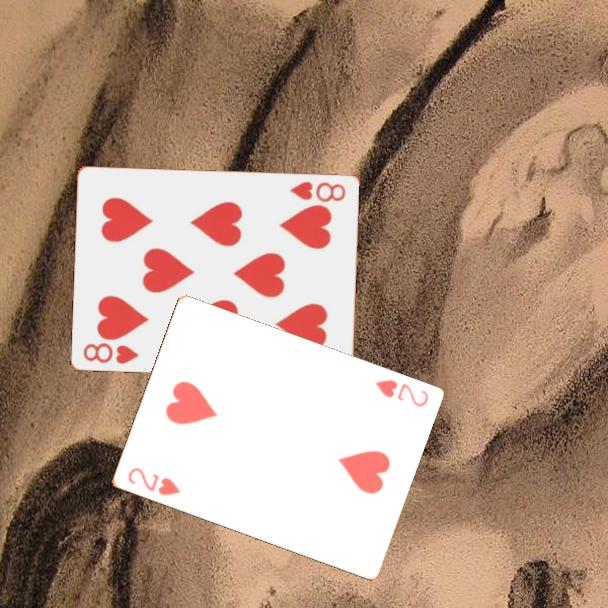h02: (124, 464, 183, 499), (371, 376, 431, 410)
h08: (80, 339, 142, 366), (287, 178, 348, 205)
